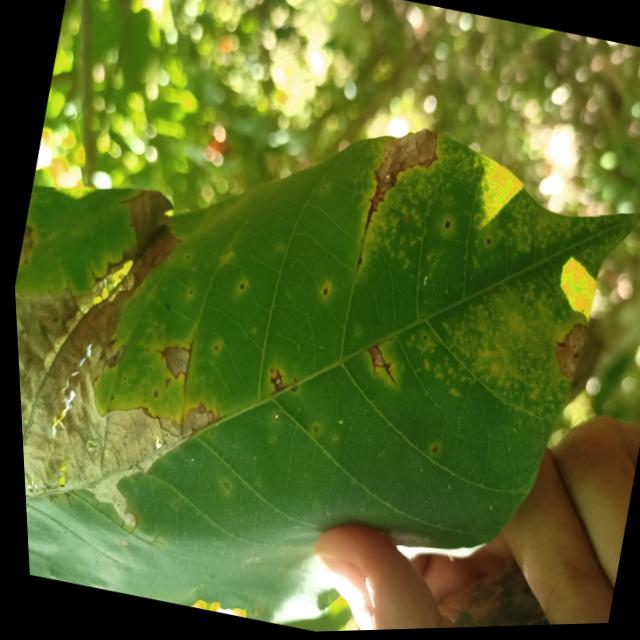Colletotrichum: (285, 385, 294, 394), (442, 222, 448, 231), (426, 447, 432, 455), (354, 258, 360, 266), (236, 283, 242, 290), (483, 239, 488, 246), (309, 427, 314, 434), (149, 390, 154, 397), (209, 345, 214, 350), (205, 432, 210, 437), (419, 336, 423, 341)
Corynespora: (347, 196, 386, 277), (353, 334, 403, 388), (144, 327, 193, 381), (261, 367, 289, 399)
Leaf-Blight: (7, 159, 268, 544), (361, 120, 444, 222), (544, 322, 587, 384), (12, 219, 39, 271)
